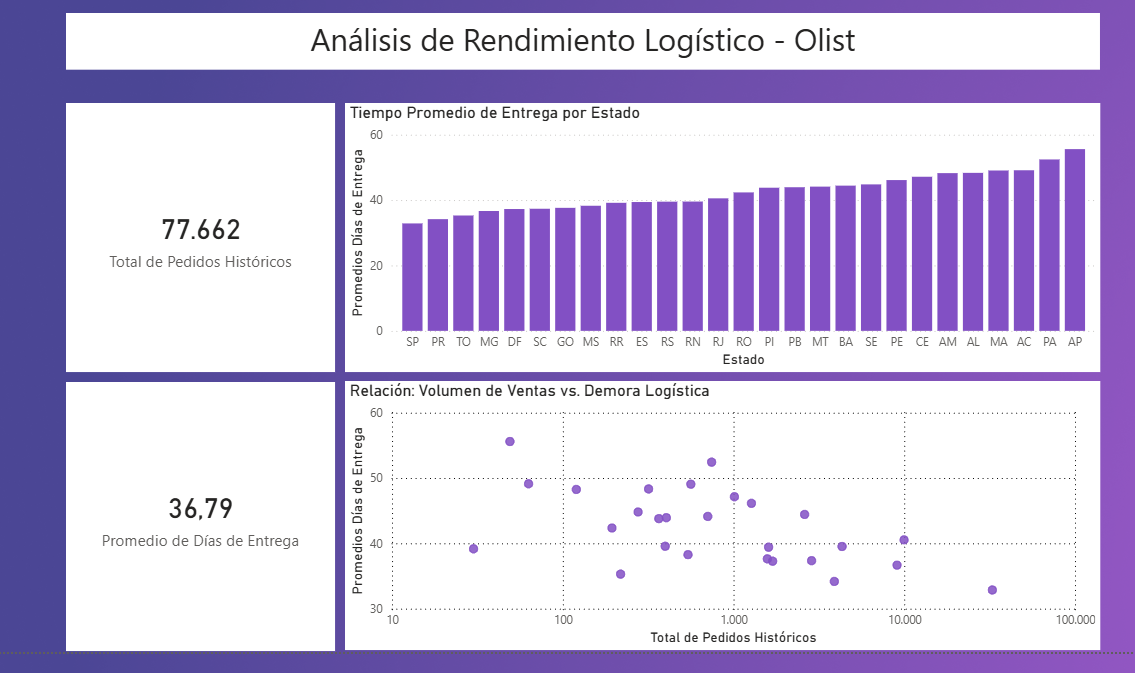

The dashboard page shown, as its layout file describes it:
{"tool":"powerbi","page":{"name":"Página 1","canvas":[1280,720],"ordinal":0},"visuals":[{"type":"card","fields":{"Values":["fact_pedidos.Total de Pedidos Históricos"]},"box":[130.1,148.9,280.1,280.1],"z":0},{"type":"card","fields":{"Values":["fact_pedidos.Promedios Días de Entrega"]},"box":[129.7,439.3,280,280],"z":1000},{"type":"clusteredColumnChart","title":"Tiempo Promedio de Entrega por Estado","fields":{"Y":["fact_pedidos.Promedios Días de Entrega"],"Category":["dim_clientes.customer_state"]},"box":[419.9,148.9,785.9,280.1],"z":2000},{"type":"scatterChart","title":"Relación: Volumen de Ventas vs. Demora Logística","fields":{"X":["fact_pedidos.Total de Pedidos Históricos"],"Y":["fact_pedidos.Promedios Días de Entrega"],"Category":["dim_clientes.customer_state"]},"box":[420.2,438.4,785.7,279.9],"z":3000},{"type":"textbox","box":[129.8,55.4,1076,59.3],"z":4000}]}

Visuals, with their boxes in screenshot pixels (x1, y1, x2, y2):
card - fact_pedidos.Total de Pedidos Históricos: box(66, 102, 329, 365)
card - fact_pedidos.Promedios Días de Entrega: box(66, 374, 329, 638)
"Tiempo Promedio de Entrega por Estado" clusteredColumnChart: box(339, 102, 1077, 365)
"Relación: Volumen de Ventas vs. Demora Logística" scatterChart: box(339, 374, 1077, 637)
textbox: box(66, 14, 1077, 69)
